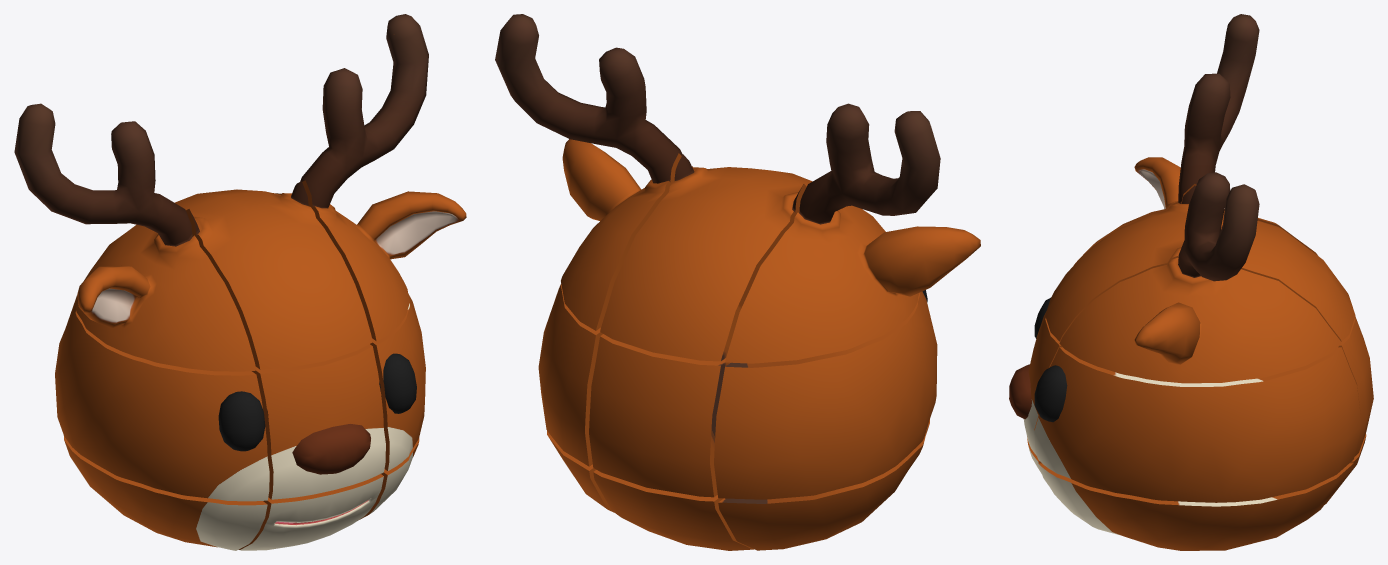
The model's file is Deer_Cut.fbx.
3 renders of one model, left to right at view 1: azimuth 30°, elevation 25°; view 2: azimuth 150°, elevation 25°; view 3: azimuth 270°, elevation 25°, orthographic. The views are drawn at different scales.
Visible parts, largest first — view 1: LT, L, T, RT, C, LB, R, B, RB; view 2: LT, L, T, RT, C, LB, R, B, RB; view 3: R, RT, T, RB, LT, C.
Boxes of the visible parts, left/top/right/bottom form: LT: left=14, top=103, right=256, bottom=371; L: left=55, top=295, right=269, bottom=501; T: left=175, top=181, right=372, bottom=369; RT: left=273, top=14, right=466, bottom=341; C: left=252, top=344, right=385, bottom=499; LB: left=64, top=436, right=267, bottom=550; R: left=370, top=293, right=425, bottom=470; B: left=238, top=474, right=383, bottom=550; RB: left=359, top=438, right=419, bottom=519; LT: left=725, top=103, right=980, bottom=363; L: left=714, top=290, right=937, bottom=499; T: left=600, top=154, right=812, bottom=361; RT: left=495, top=14, right=706, bottom=330; C: left=589, top=334, right=729, bottom=497; LB: left=718, top=419, right=929, bottom=550; R: left=538, top=283, right=602, bottom=466; B: left=593, top=470, right=754, bottom=550; RB: left=547, top=431, right=613, bottom=512; R: left=1034, top=347, right=1361, bottom=502; RT: left=1059, top=172, right=1341, bottom=383; T: left=1045, top=185, right=1355, bottom=341; RB: left=1038, top=463, right=1353, bottom=550; LT: left=1074, top=14, right=1317, bottom=264; C: left=1009, top=311, right=1373, bottom=456.
Size of the model in its own units: 53.84 by 56.18 by 43.66.
